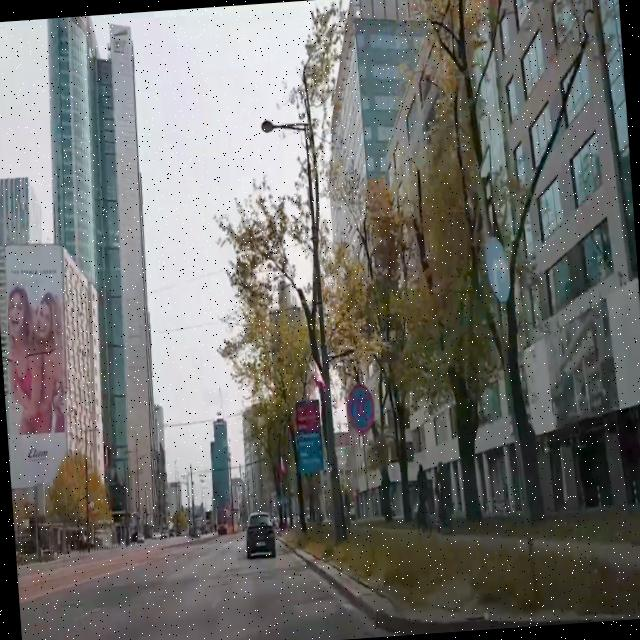Zakaz zatrzymywania sie: (346, 382, 376, 433)
